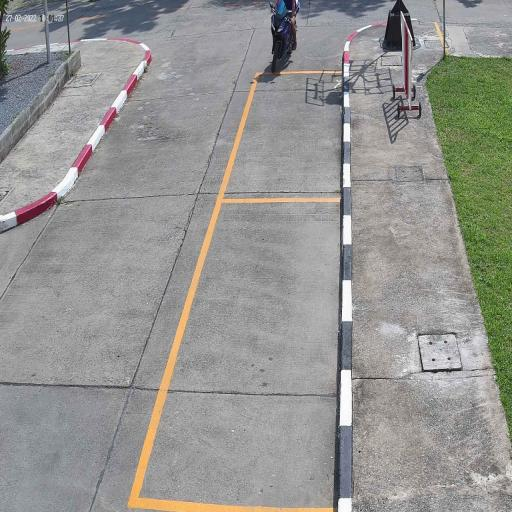motorcycle: (269, 11, 296, 73)
